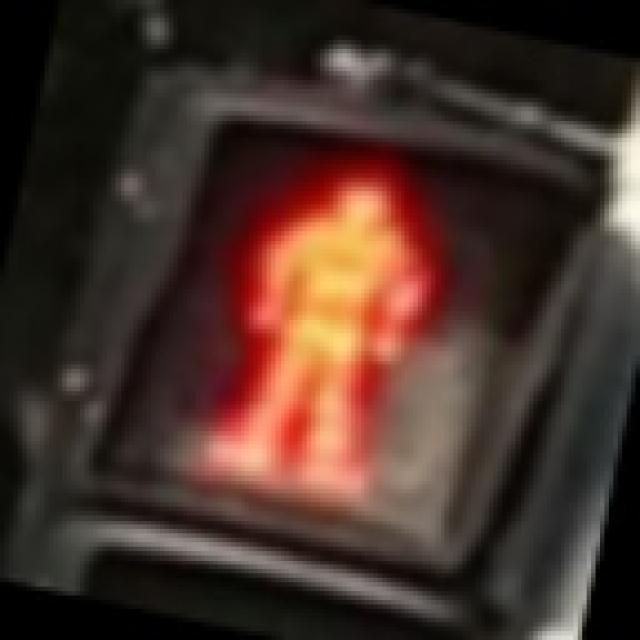red_light: (98, 67, 524, 556)
